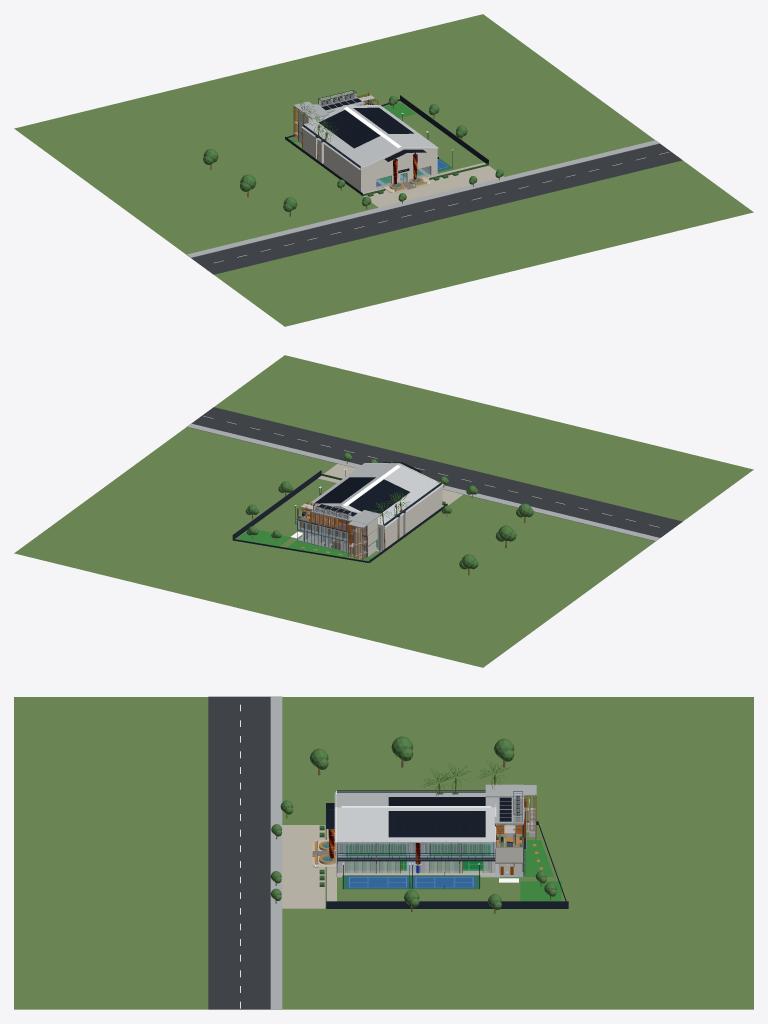
The model's file is MyPlace_Master_vR47.dae.
The picture shows the model from 3 angles, top to bottom: view 1: azimuth 30°, elevation 25°; view 2: azimuth 150°, elevation 25°; view 3: azimuth 270°, elevation 25°; orthographic projection. The views are drawn at different scales.
Visible parts, largest first — view 1: site__grass, site__asphalt, hall_shell__plaster, hall_roof__roofSheet, site__concrete, hall_roof__solar, site__paving, trees__treeCrown, fences__charcoal; view 2: site__grass, site__asphalt, hall_roof__roofSheet, site__concrete, hall_roof__solar, hall_shell__plaster, trees__treeCrown, fences__charcoal, outdoor__turf, site__paving, rear_roof__concrete; view 3: site__grass, site__asphalt, hall_roof__roofSheet, site__paving, site__concrete, hall_roof__solar, trees__treeCrown, hall_interior__court, hall_shell__glass, fences__charcoal, outdoor__pickleTex, outdoor__turf (+8 smaller).
Part boxes in pixels (x1,y1,x2,y2): site__grass: (14,14,753,326); site__asphalt: (191,143,682,274); hall_shell__plaster: (302,105,437,192); hall_roof__roofSheet: (301,105,438,169); site__concrete: (187,140,659,257); hall_roof__solar: (319,107,413,148); site__paving: (362,162,503,207); trees__treeCrown: (203,96,503,211); fences__charcoal: (285,95,488,195); site__grass: (14,355,753,667); site__asphalt: (191,407,682,537); hall_roof__roofSheet: (308,463,443,527); site__concrete: (186,423,659,551); hall_roof__solar: (314,477,409,513); hall_shell__plaster: (308,463,442,550); trees__treeCrown: (245,452,533,569); fences__charcoal: (232,470,447,562); outdoor__turf: (237,529,371,561); site__paving: (318,464,462,506); rear_roof__concrete: (311,503,381,528); site__grass: (14,697,753,1009); site__asphalt: (208,696,270,1009); hall_roof__roofSheet: (334,792,495,842); site__paving: (282,825,495,908); site__concrete: (270,696,499,1009); hall_roof__solar: (388,797,485,837); trees__treeCrown: (270,736,556,909); hall_interior__court: (345,844,490,870); hall_shell__glass: (337,843,494,857); fences__charcoal: (326,821,568,908); outdoor__pickleTex: (347,876,475,888); outdoor__turf: (520,826,561,901).
Bounding box in the file's own units: 160 × 160 × 16.22.
Materials: 72 (6 with a texture image).
